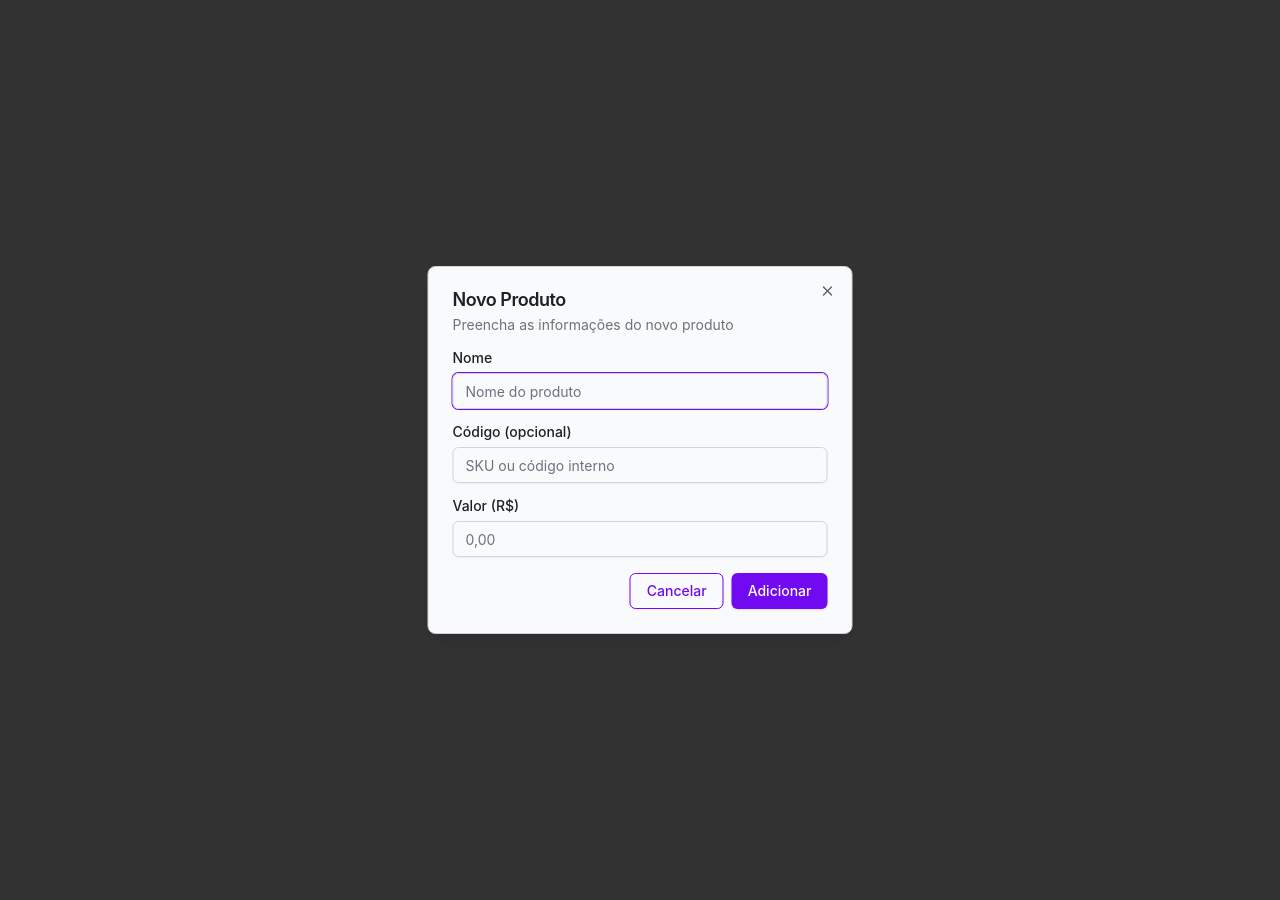
Scenario: FormularioProduto › validation › deve exibir erro quando nome está vazio
The image size is (1280, 900).
Type "10,00" into the field labelled "Valor (R$)" at (640, 539), box [452,521,828,557]
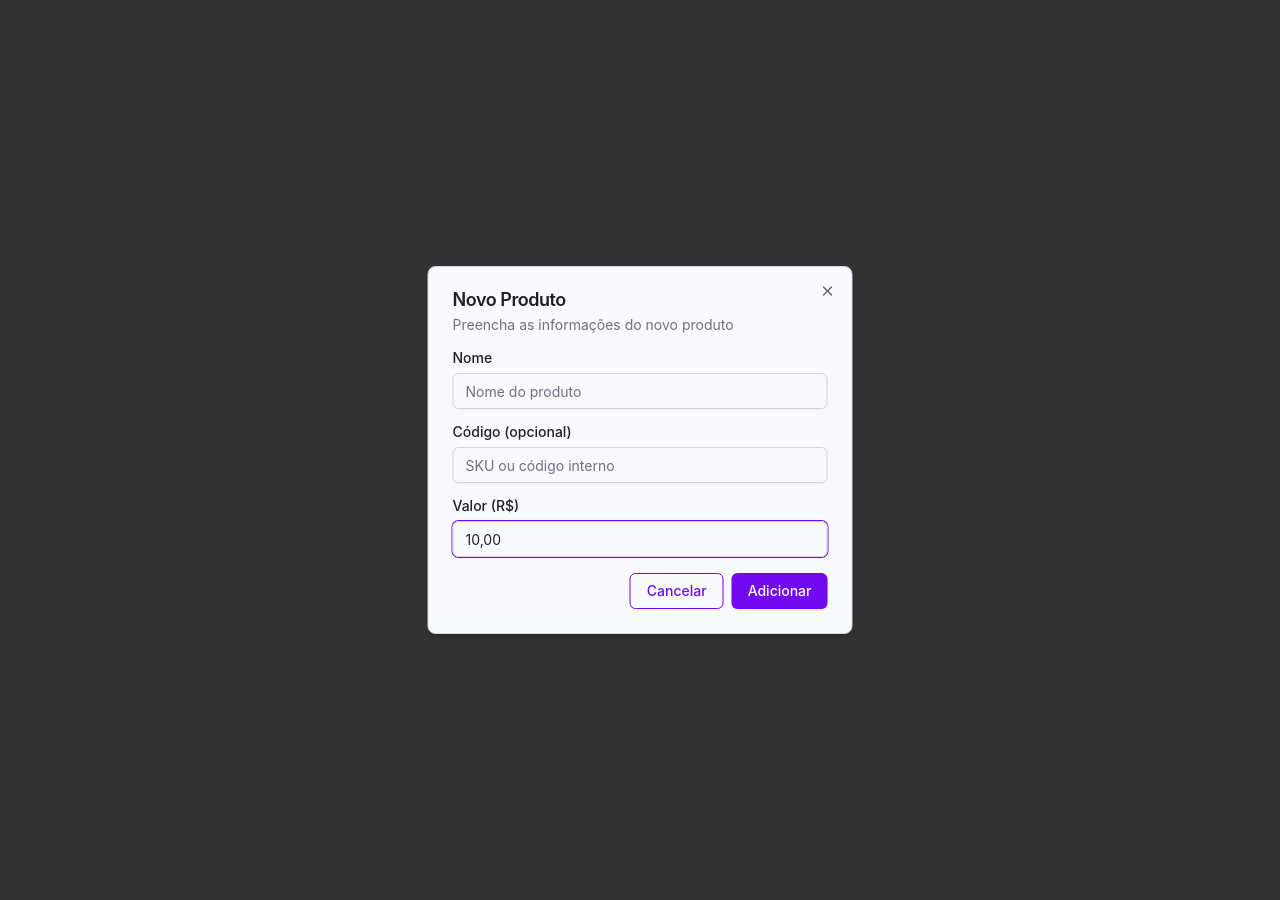
Click the button "Adicionar" at (780, 591), box [732,573,828,609]
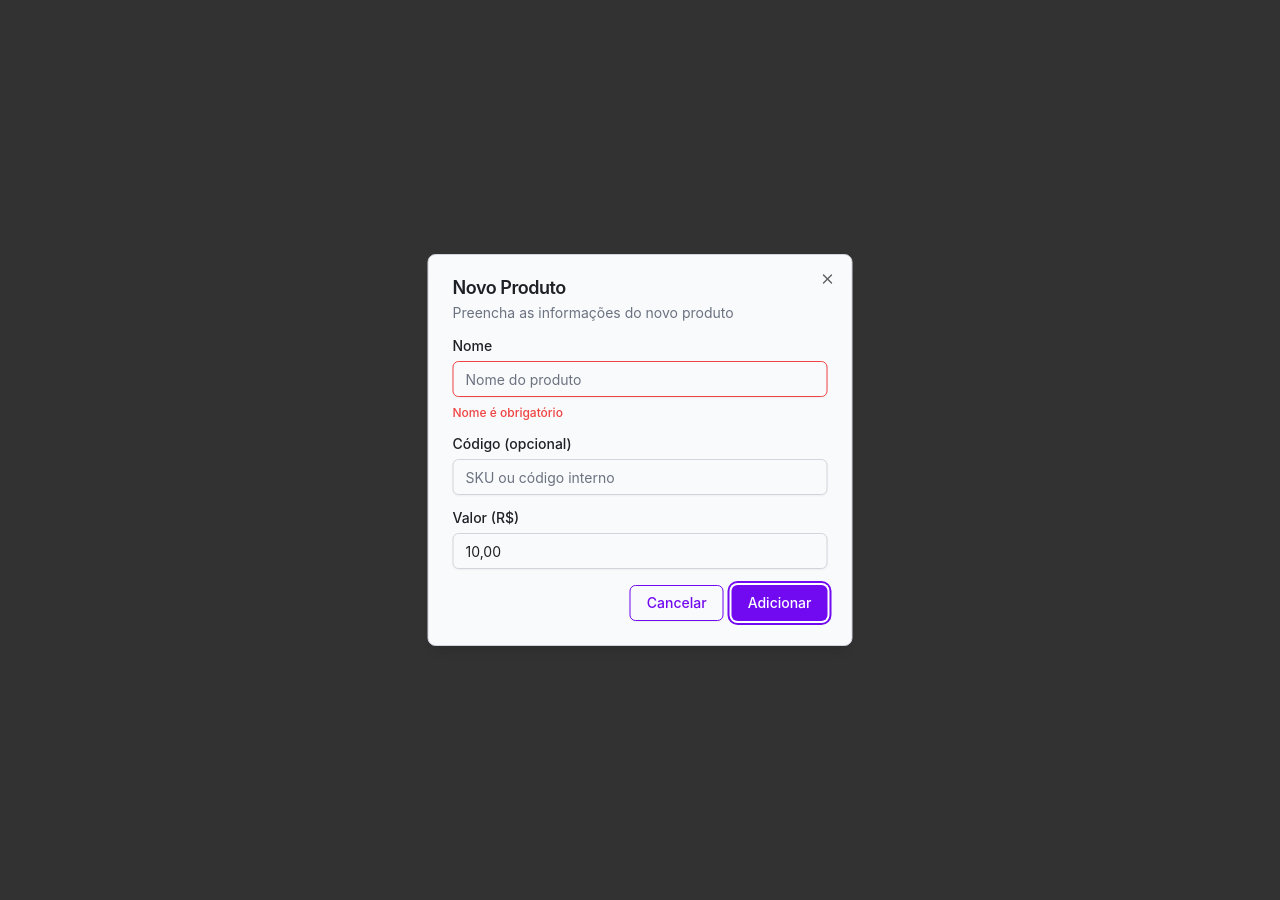
Expected: the text "Nome é obrigatório" is shown, [452,405,563,420]
